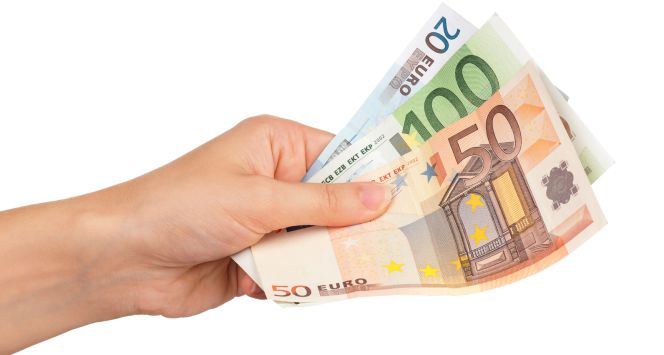billete: (225, 2, 619, 310)
